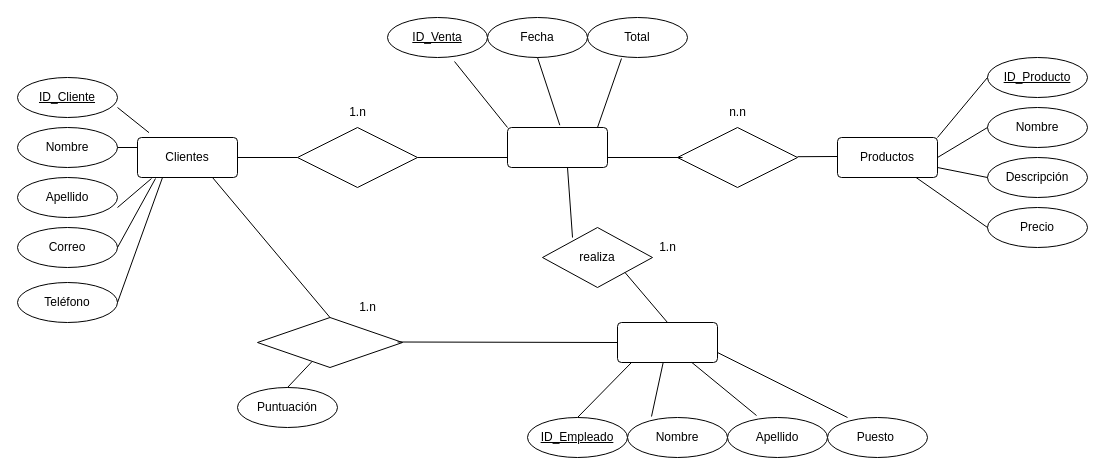
Some shapes in this 1105 by 475 pixel diagram are drawn without their labels. Each missing label, with the centre of its shape:
"Empleados" belongs at (x=667, y=342).
"Hace" belongs at (x=357, y=157).
"Satisfacción_cliente" belongs at (x=329, y=342).
"tiene" belongs at (x=737, y=157).
"Ventas" belongs at (x=557, y=147).
